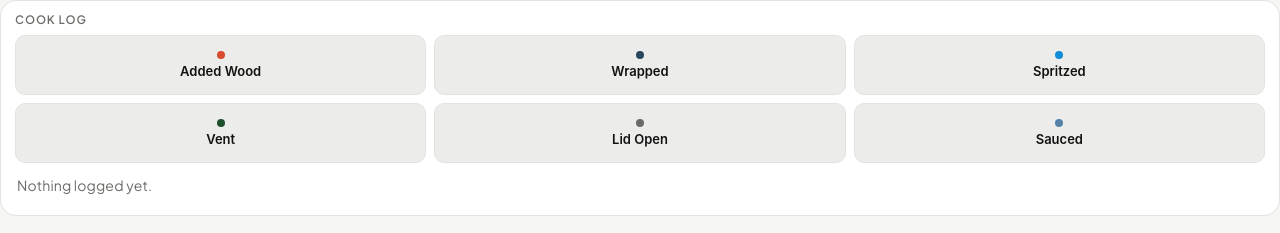
Test: the cook log card › says so when the tap never reached the backend
Click the button "Vent" at (221, 133), box [15,103,426,163]
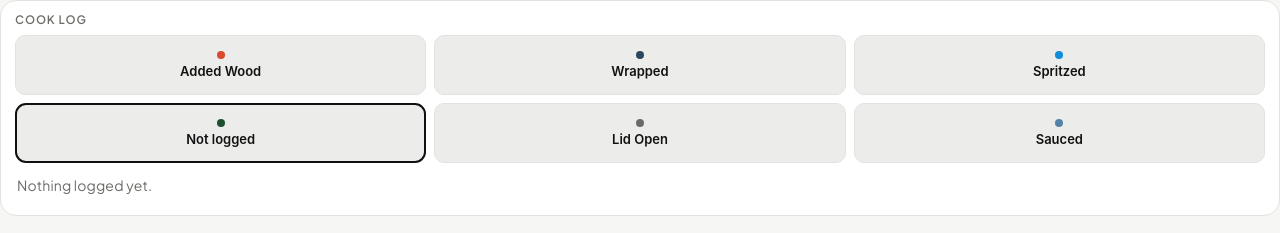
expect the text "Not logged" is shown: met, box [186,131,255,147]
